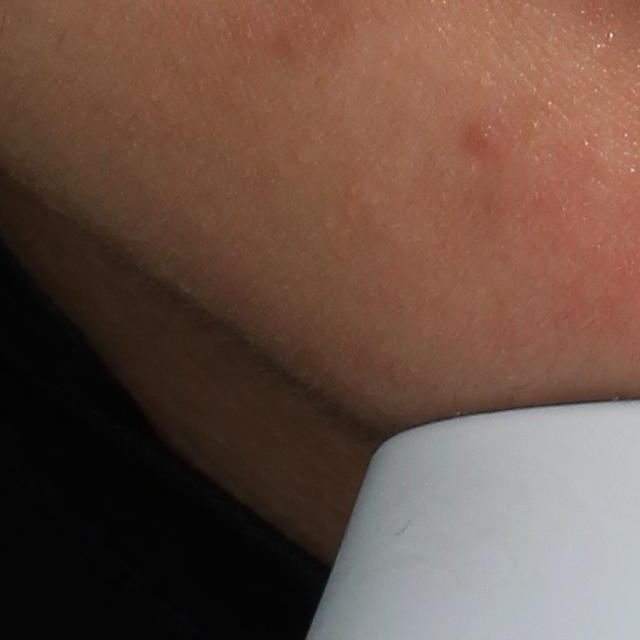papule: (464, 123, 498, 162)
